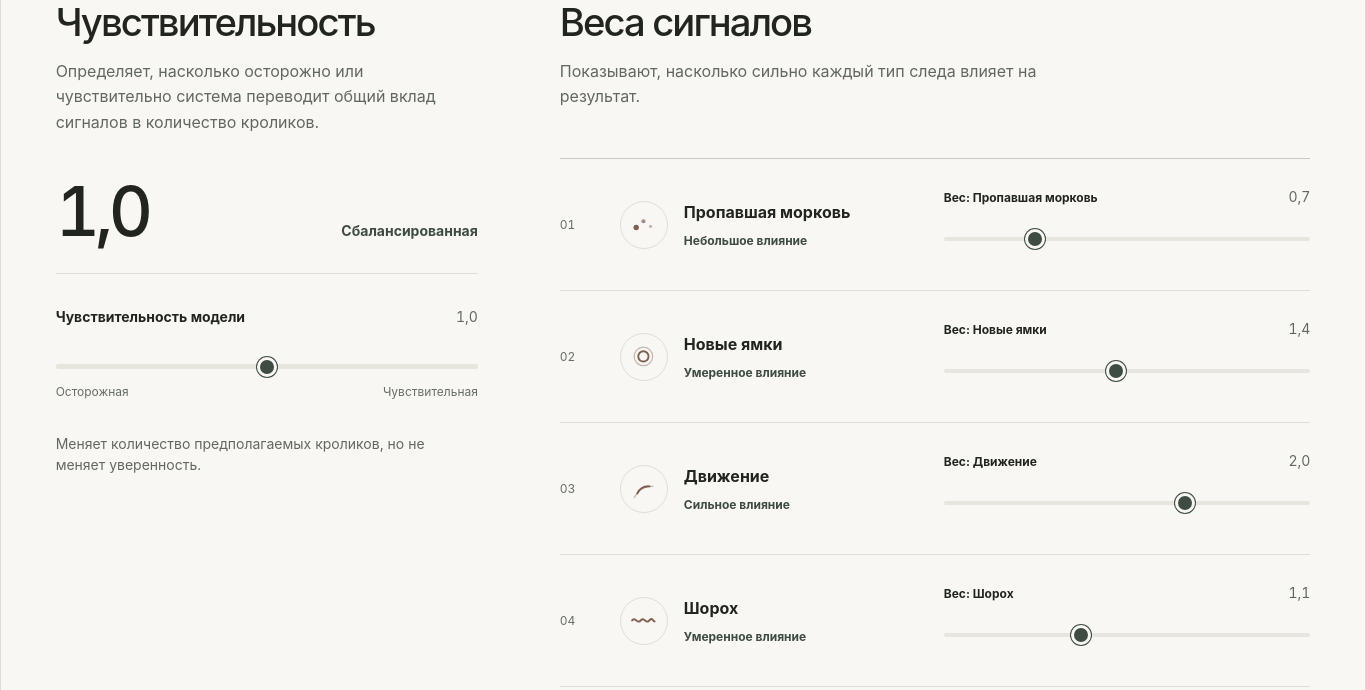
Scenario: ModelSettingsSection › для sensitivity 0.5 показывает estimate 2 и сохраняет confidence
(page scrolled)
Set the slider labelled "Чувствительность модели" to "0.5" at (64, 367), box [56,343,478,391]
(page scrolled)
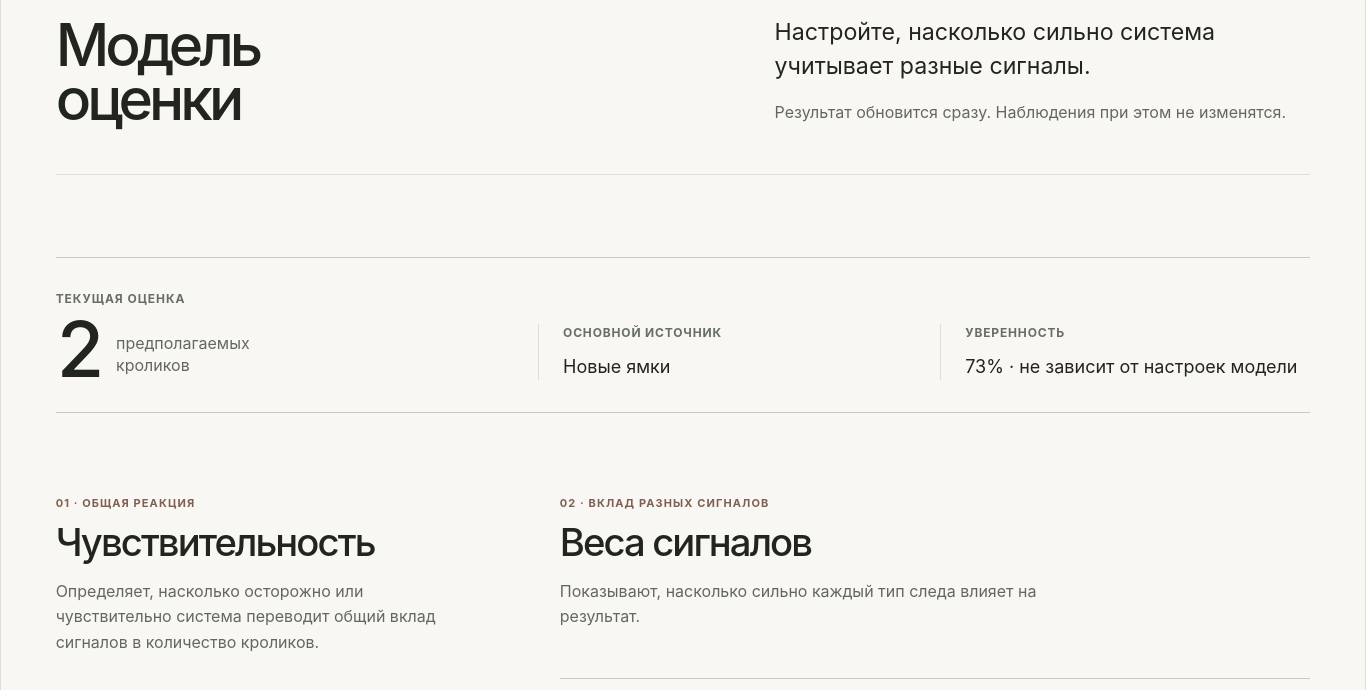
Expected: the text "73% · не зависит от настроек модели" is shown, [965,354,1310,380]
Expected: the text "2" is shown, [56,320,100,380]
